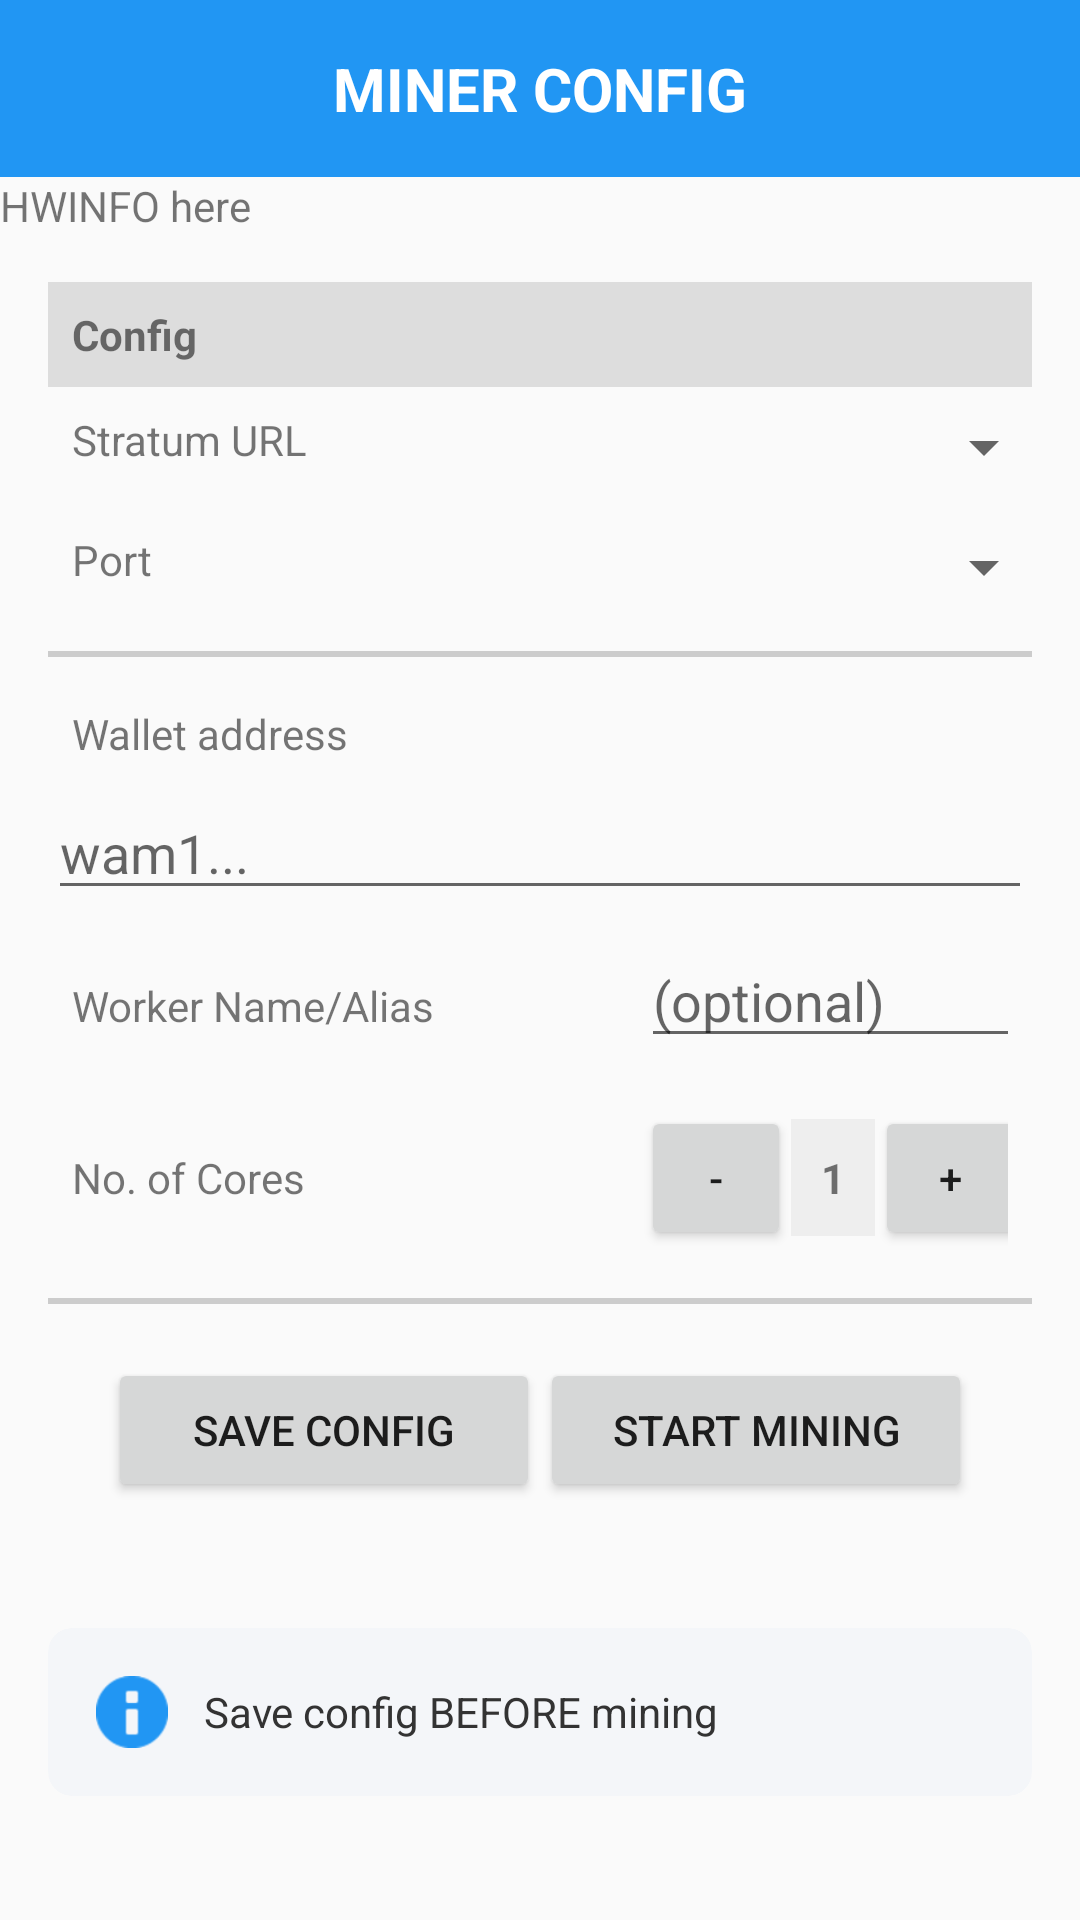

Named icons in this screenshot (1080px x 1920px) and their bounding boxes, (x1, y1, x2, y2):
Info Icon: (96, 1676, 168, 1748)
